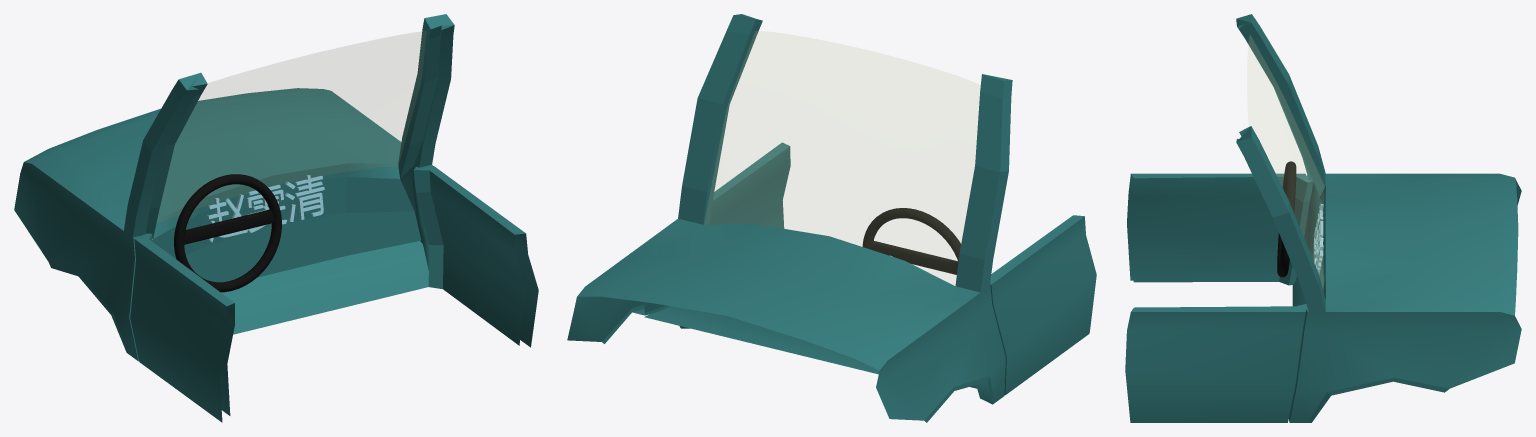
Rendered from car.obj.
3 renders of one model, left to right at view 1: azimuth 30°, elevation 25°; view 2: azimuth 150°, elevation 25°; view 3: azimuth 270°, elevation 25°, orthographic. The views are drawn at different scales.
Parts seen in each view (by area): view 1: Car_for_proxy, Glass_front, Object007, Text001; view 2: Car_for_proxy, Glass_front, Object007; view 3: Car_for_proxy, Glass_front, Object007, Text001.
Part boxes in pixels (bbox=[...]): Car_for_proxy: bbox=[14, 14, 538, 422]; Glass_front: bbox=[157, 31, 425, 222]; Object007: bbox=[174, 174, 281, 292]; Text001: bbox=[207, 175, 324, 242]; Car_for_proxy: bbox=[567, 14, 1096, 422]; Glass_front: bbox=[705, 31, 979, 285]; Object007: bbox=[862, 208, 960, 274]; Car_for_proxy: bbox=[1125, 14, 1521, 422]; Glass_front: bbox=[1247, 35, 1324, 290]; Object007: bbox=[1277, 161, 1296, 277]; Text001: bbox=[1313, 204, 1323, 275].
Size of the model in its own units: 468 by 411 by 532.
